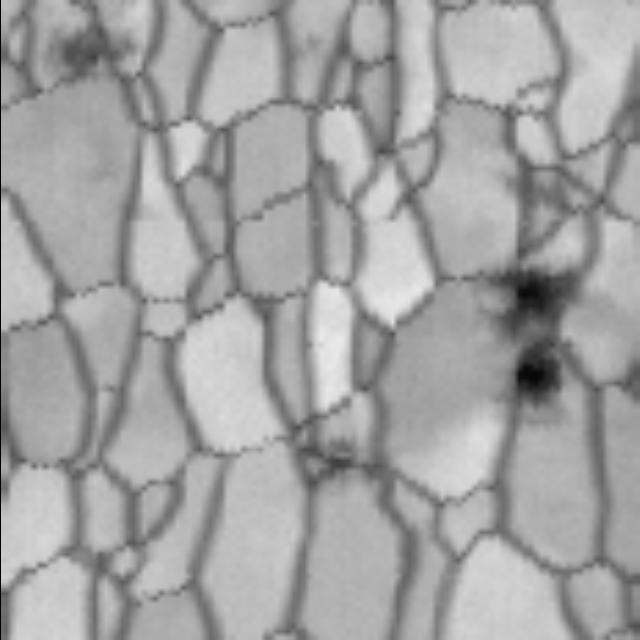good_void: (472, 236, 596, 465), (37, 14, 141, 107)
